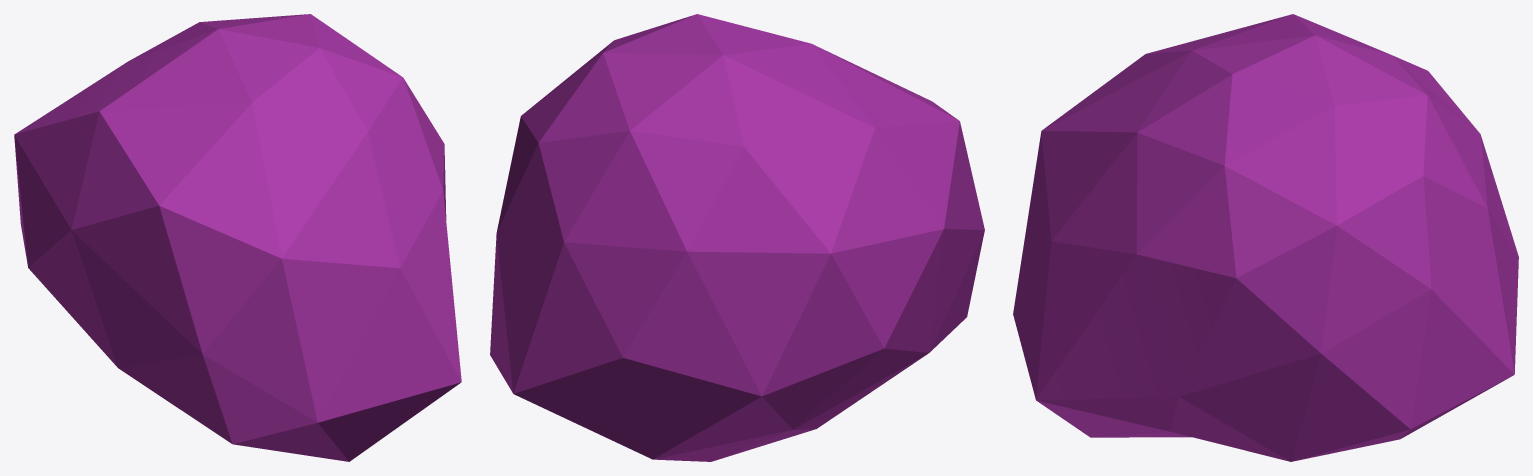
Rendered from pruik.fbx.
The picture shows the model from 3 angles, left to right: view 1: azimuth 30°, elevation 25°; view 2: azimuth 150°, elevation 25°; view 3: azimuth 270°, elevation 25°; orthographic projection. The views are drawn at different scales.
Parts seen in each view (by area): view 1: Icosphere; view 2: Icosphere; view 3: Icosphere.
Boxes of the visible parts, left/top/right/bottom form: Icosphere: left=14, top=14, right=461, bottom=461; Icosphere: left=490, top=14, right=984, bottom=461; Icosphere: left=1013, top=14, right=1518, bottom=461.
Size of the model in its own units: 65.41 by 60.82 by 71.75.
